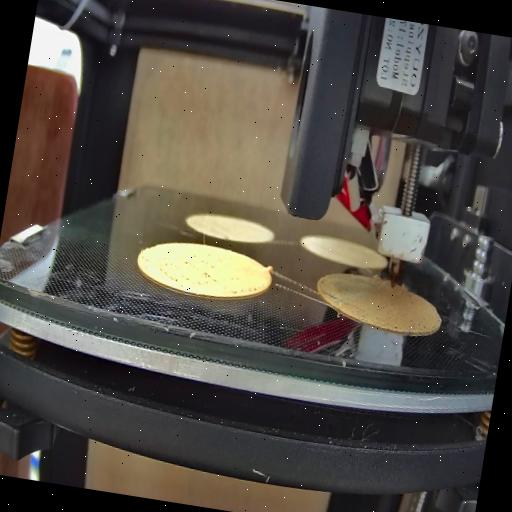under_extrusion: (154, 246, 220, 292), (383, 306, 437, 338), (226, 277, 262, 303), (315, 289, 350, 309)
